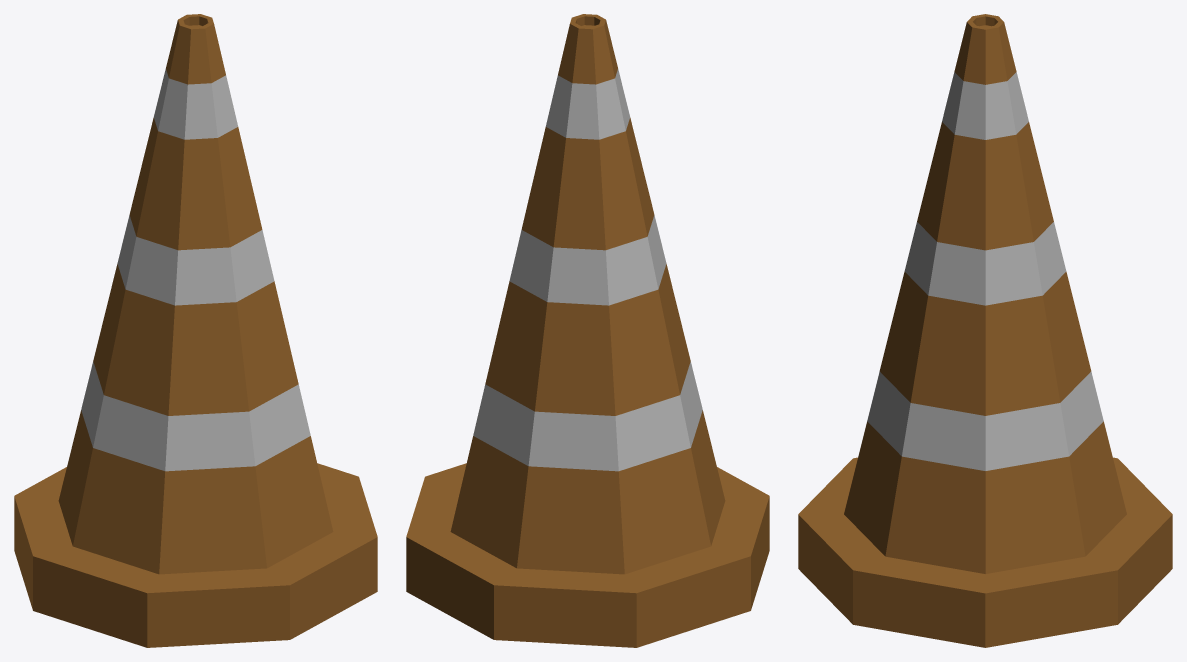
File: TraficCone.fbx
The picture shows the model from 3 angles, left to right: view 1: azimuth 30°, elevation 25°; view 2: azimuth 150°, elevation 25°; view 3: azimuth 270°, elevation 25°; orthographic projection.
Parts seen in each view (by area): view 1: Cone; view 2: Cone; view 3: Cone.
Boxes of the visible parts, bbox=[...] form: Cone: bbox=[14, 14, 377, 647]; Cone: bbox=[406, 14, 769, 647]; Cone: bbox=[798, 14, 1172, 647].
Bounding box in the file's own units: 90.8 × 146 × 90.8.
